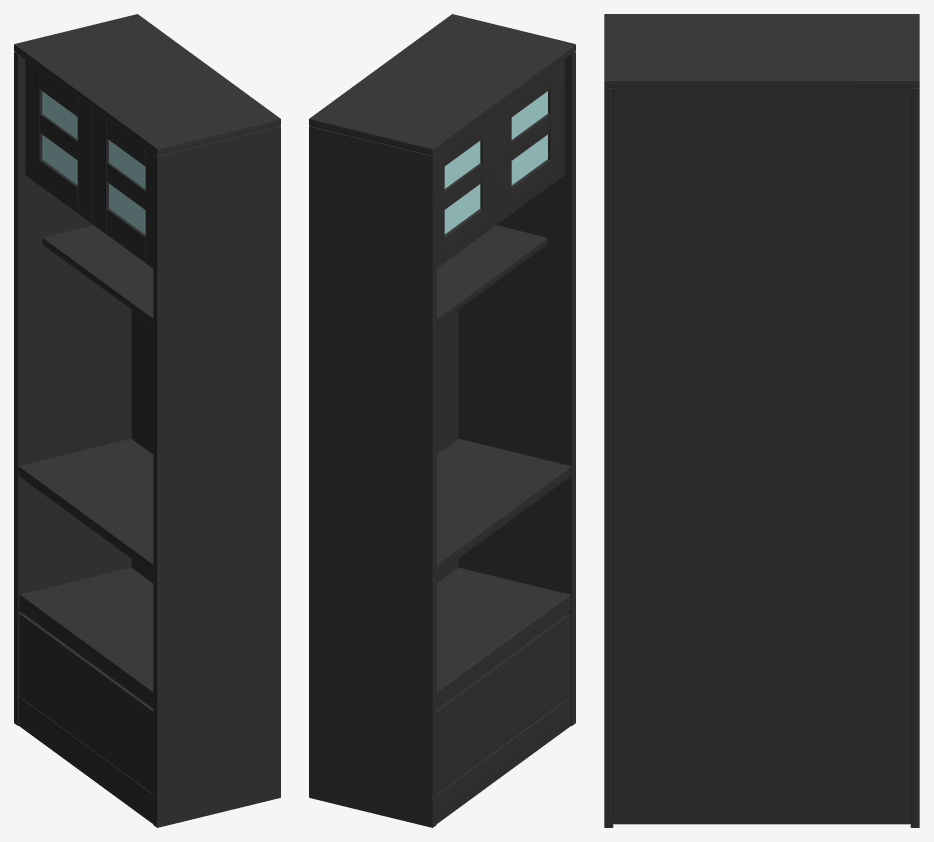
The model's file is SM_Cupboard_02.fbx.
3 renders of one model, left to right at view 1: azimuth 30°, elevation 25°; view 2: azimuth 150°, elevation 25°; view 3: azimuth 270°, elevation 25°, orthographic. The views are drawn at different scales.
Visible parts, largest first — view 1: SM_Cupboard_02_LOD0; view 2: SM_Cupboard_02_LOD0; view 3: SM_Cupboard_02_LOD0.
Part boxes in pixels (x1=…): SM_Cupboard_02_LOD0: x1=14, y1=14, x2=280, y2=827; SM_Cupboard_02_LOD0: x1=309, y1=14, x2=575, y2=827; SM_Cupboard_02_LOD0: x1=604, y1=14, x2=919, y2=827.
Size of the model in its own units: 35 by 70 by 183.
